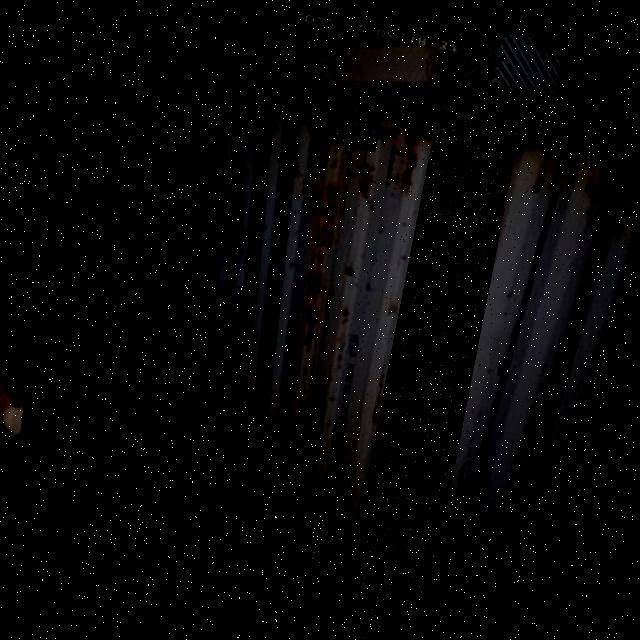Rust: (341, 119, 520, 640), (323, 102, 383, 152), (302, 525, 332, 567)
